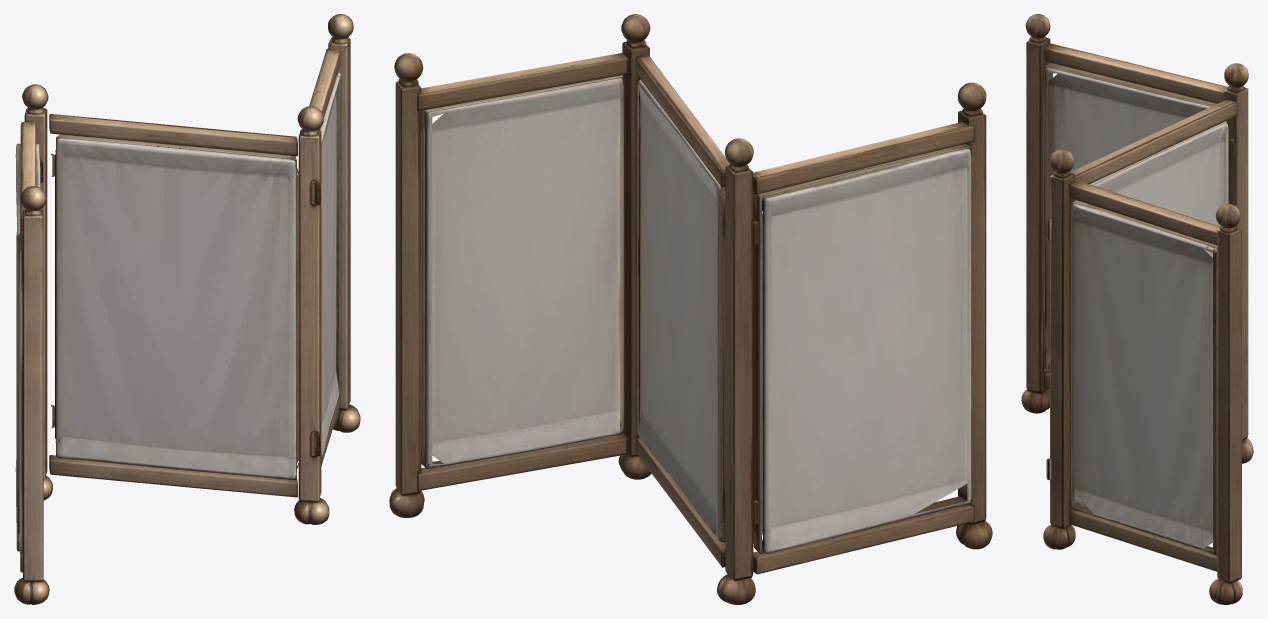
The model's file is act1-a19-5-linen-screen.glb.
3 views of the same model, side by side, from view 1: azimuth 30°, elevation 25°; view 2: azimuth 150°, elevation 25°; view 3: azimuth 270°, elevation 25° (orthographic). The views are drawn at different scales.
Parts seen in each view (by area): view 1: act1-a19-5-linen-screen; view 2: act1-a19-5-linen-screen; view 3: act1-a19-5-linen-screen.
Part boxes in pixels (box(x1,y1,x2,y2)): act1-a19-5-linen-screen: box(14, 14, 360, 604); act1-a19-5-linen-screen: box(389, 14, 992, 604); act1-a19-5-linen-screen: box(1021, 14, 1253, 604).
Size of the model in its own units: 1.99 by 1.8 by 0.956.
1 material, 1 textured.
